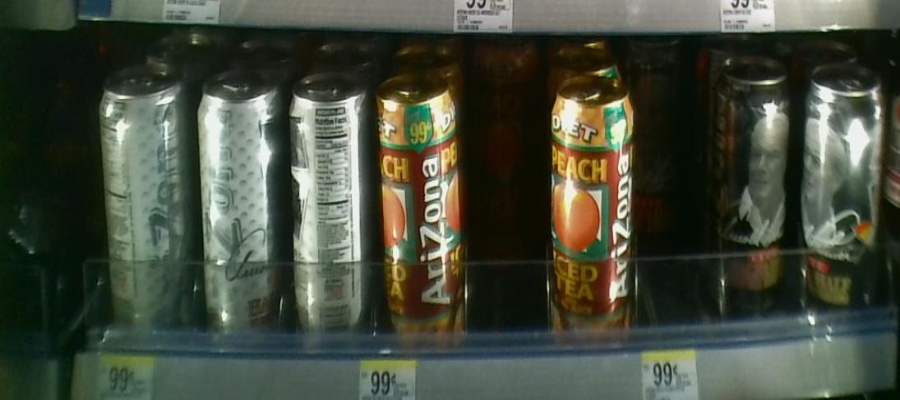bottle: (97, 73, 188, 343), (193, 71, 285, 338), (376, 77, 465, 352), (796, 52, 884, 315), (552, 75, 635, 346), (288, 73, 372, 338), (714, 62, 792, 313)
